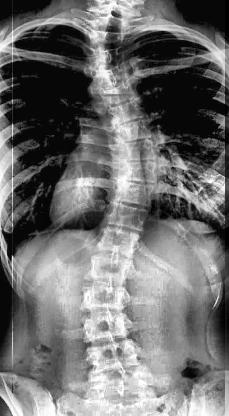Vertebrae: (84, 338, 142, 376), (79, 280, 135, 314), (79, 312, 137, 344), (98, 199, 150, 233), (94, 228, 144, 262), (89, 80, 140, 112), (98, 96, 146, 130), (84, 252, 132, 286), (105, 157, 161, 185), (104, 116, 156, 146), (102, 180, 158, 206), (108, 136, 158, 164), (86, 61, 134, 90), (84, 26, 128, 50), (86, 44, 126, 68)
